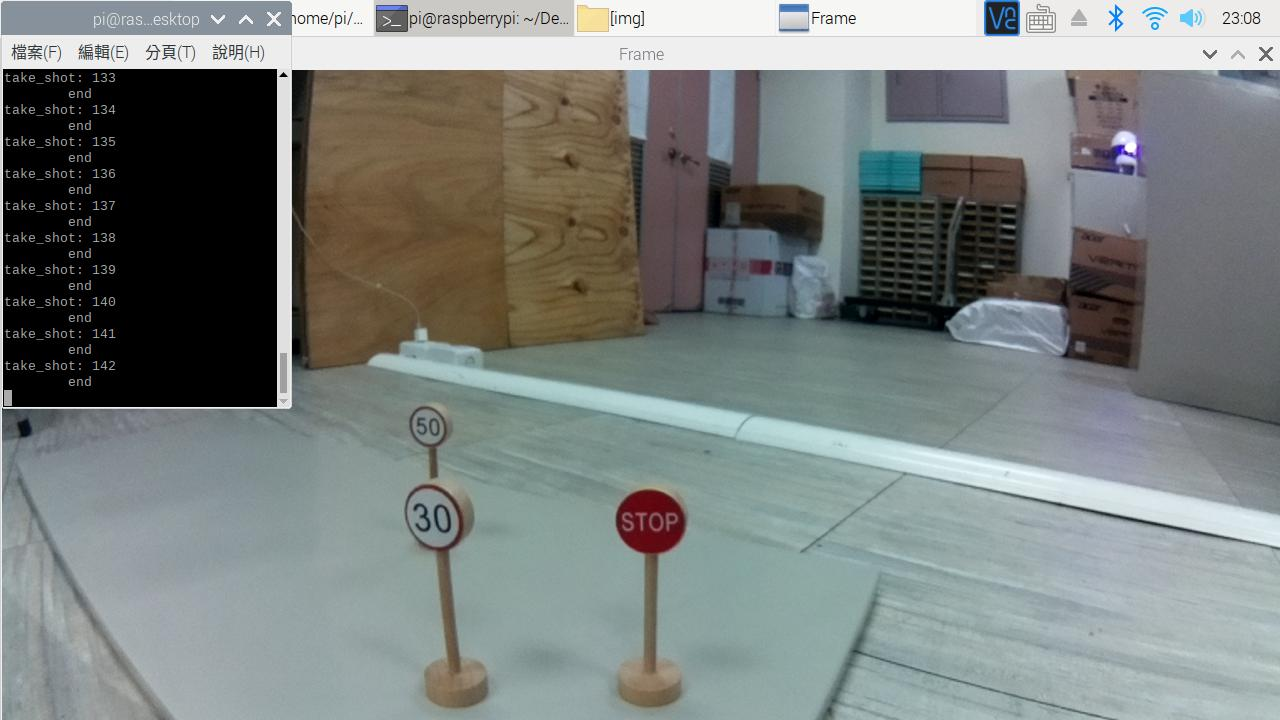Speed30: (392, 482, 489, 557)
Speed50: (396, 399, 464, 452)
Stop: (590, 469, 714, 577)
